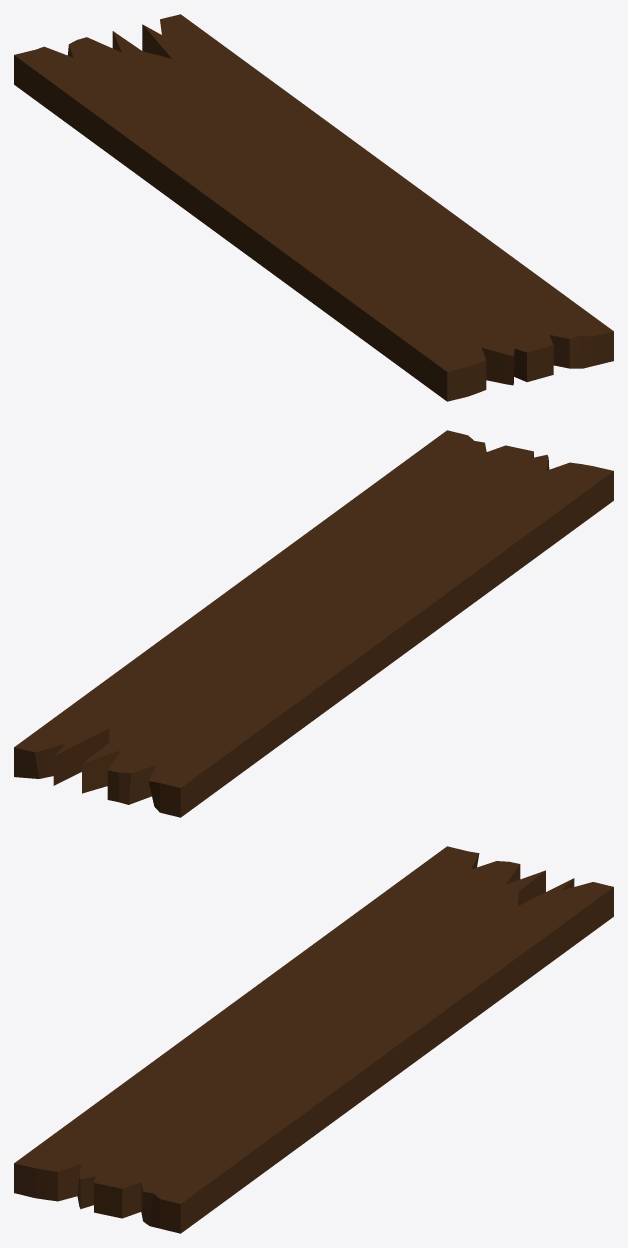
Rendered from Wood Plank 2.fbx.
3 renders of one model, top to bottom at view 1: azimuth 30°, elevation 25°; view 2: azimuth 150°, elevation 25°; view 3: azimuth 330°, elevation 25°, orthographic.
Visible parts, largest first — view 1: Cube; view 2: Cube; view 3: Cube.
Part boxes in pixels (bbox=[...]): Cube: bbox=[14, 14, 613, 401]; Cube: bbox=[14, 430, 613, 817]; Cube: bbox=[14, 846, 613, 1233].
Size of the model in its own units: 200 by 34.03 by 902.
